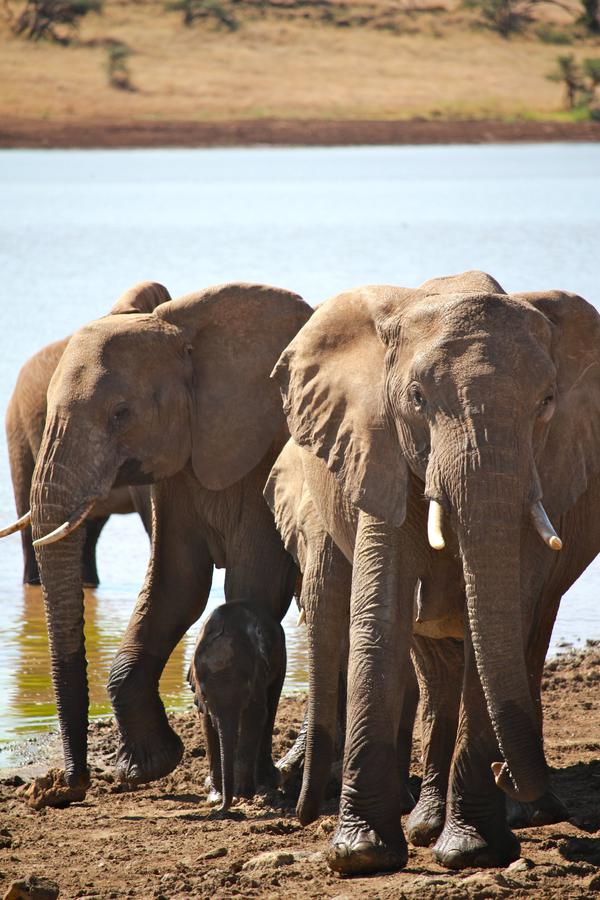elephant: (257, 253, 597, 580)
